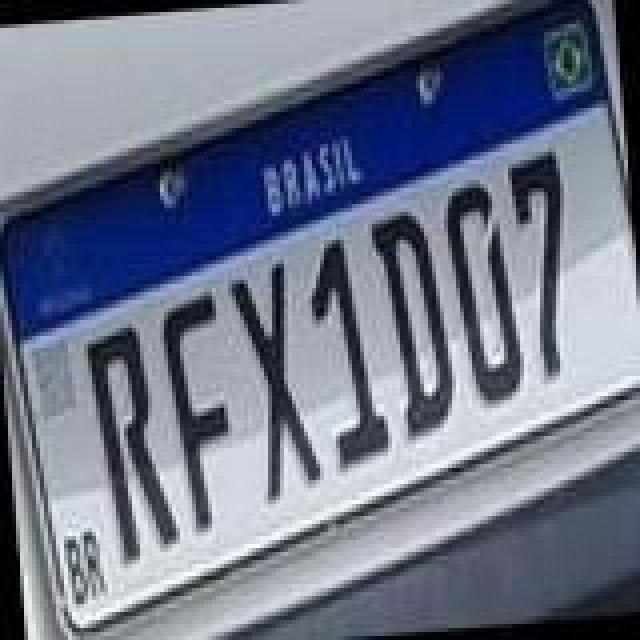1: (302, 232, 394, 472)
7: (506, 146, 582, 382)
D: (370, 210, 462, 446), (440, 182, 528, 410)
F: (158, 290, 242, 534)
R: (86, 320, 186, 568)
X: (226, 256, 326, 504)
